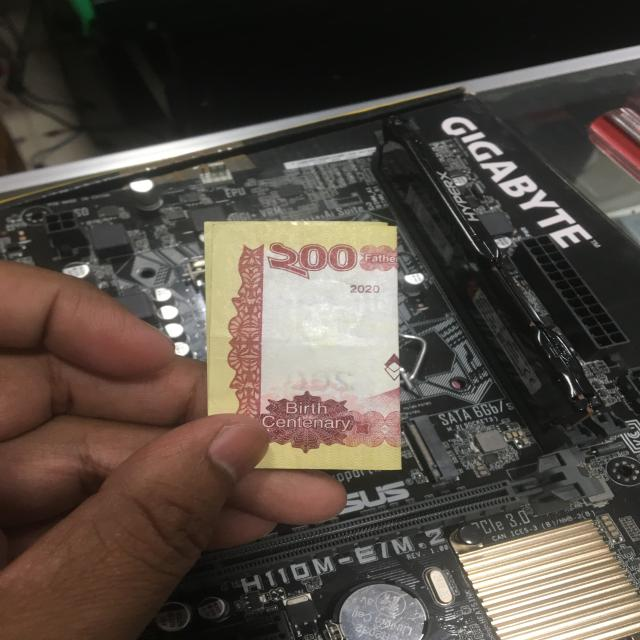Taka: (208, 217, 400, 474)
